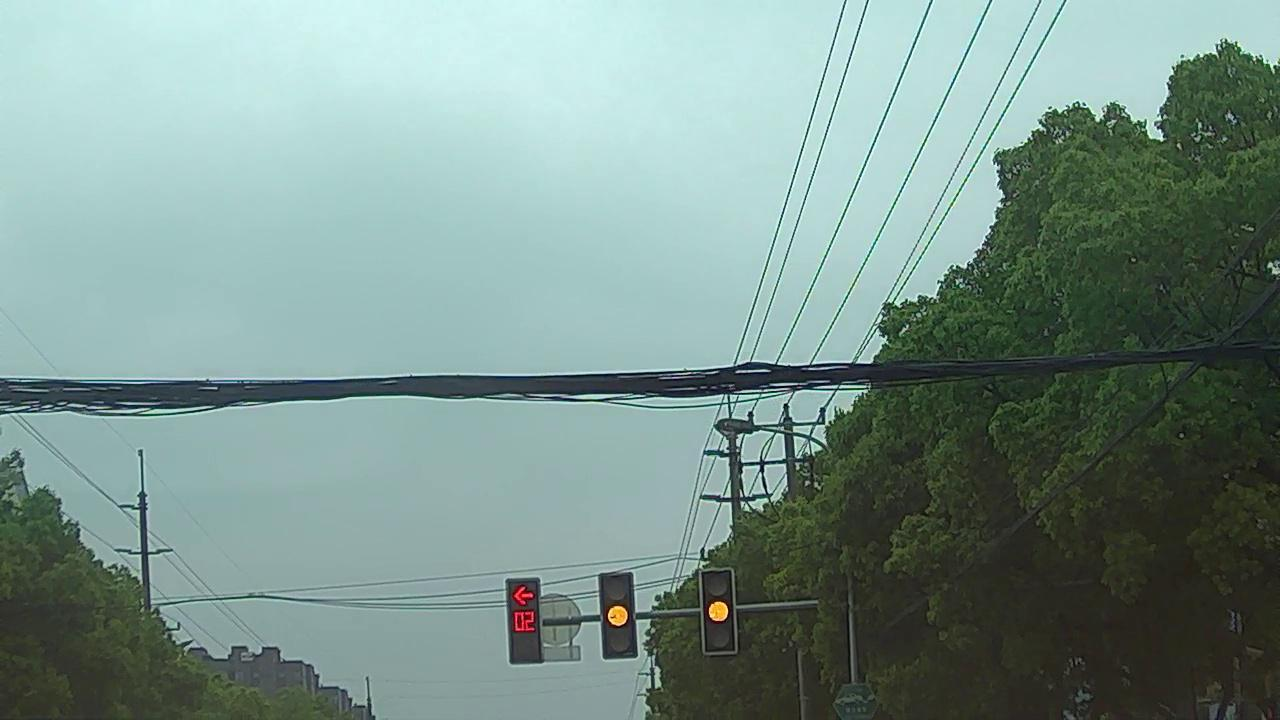traffic_light: (600, 572, 638, 657), (700, 569, 737, 653), (508, 577, 542, 664)
